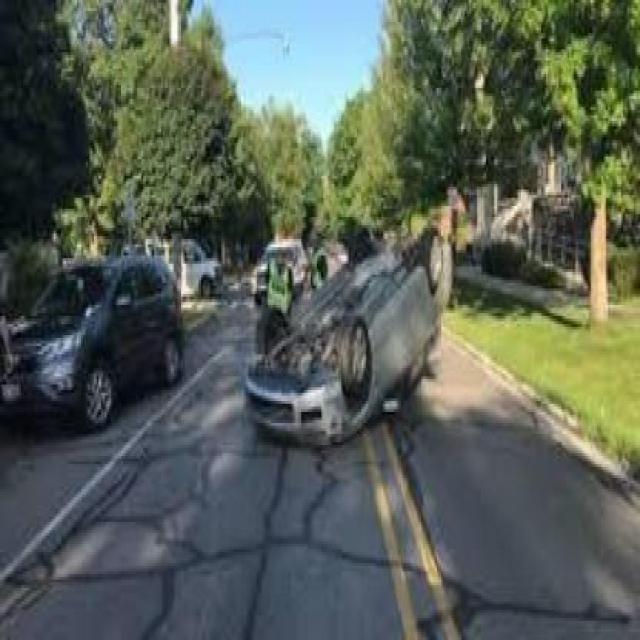accident: (240, 222, 452, 445)
